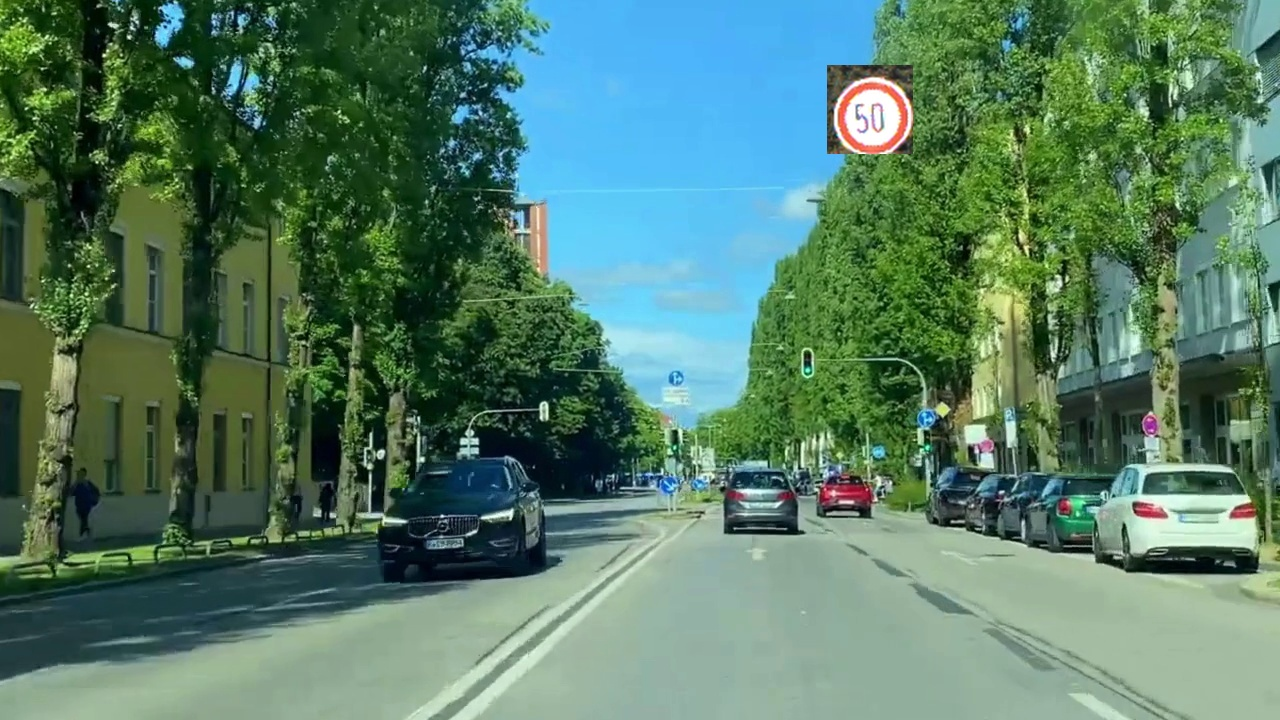Speed 50: (827, 65, 913, 154)
